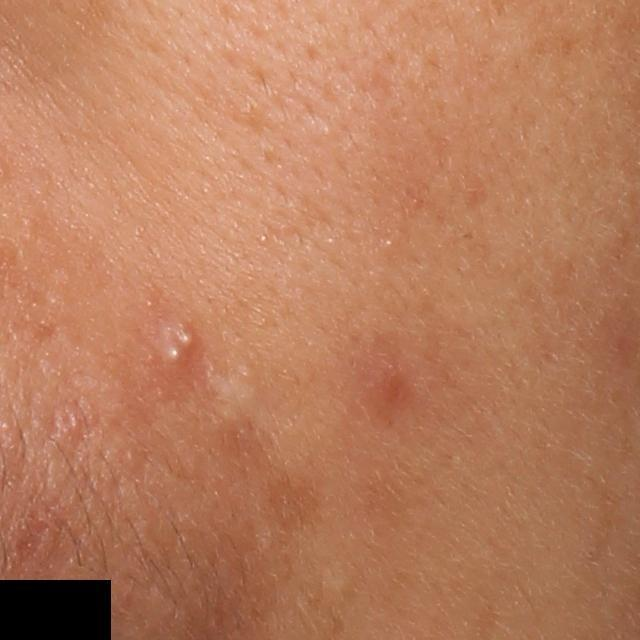hypertrophic_scar: (201, 368, 263, 428)
